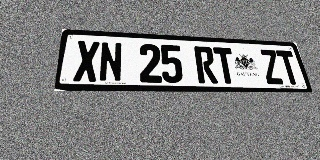2: (139, 44, 162, 83)
5: (160, 45, 184, 83)
N: (99, 42, 122, 82)
R: (194, 46, 218, 83)
T: (275, 50, 302, 85), (213, 47, 238, 84)
X: (73, 40, 100, 82)
Z: (259, 49, 285, 84)
